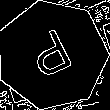P_SE: (24, 24, 80, 85)
